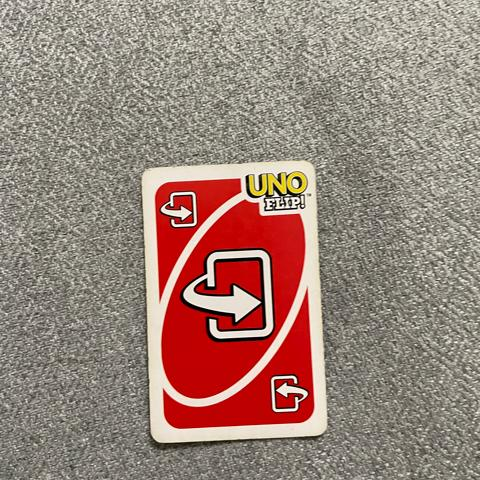lredflip-20: (152, 178, 206, 240)
